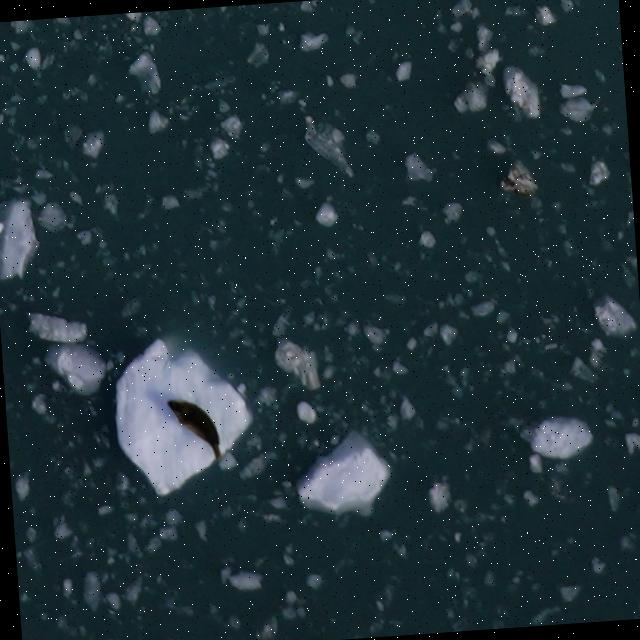seal: (164, 392, 226, 468)
